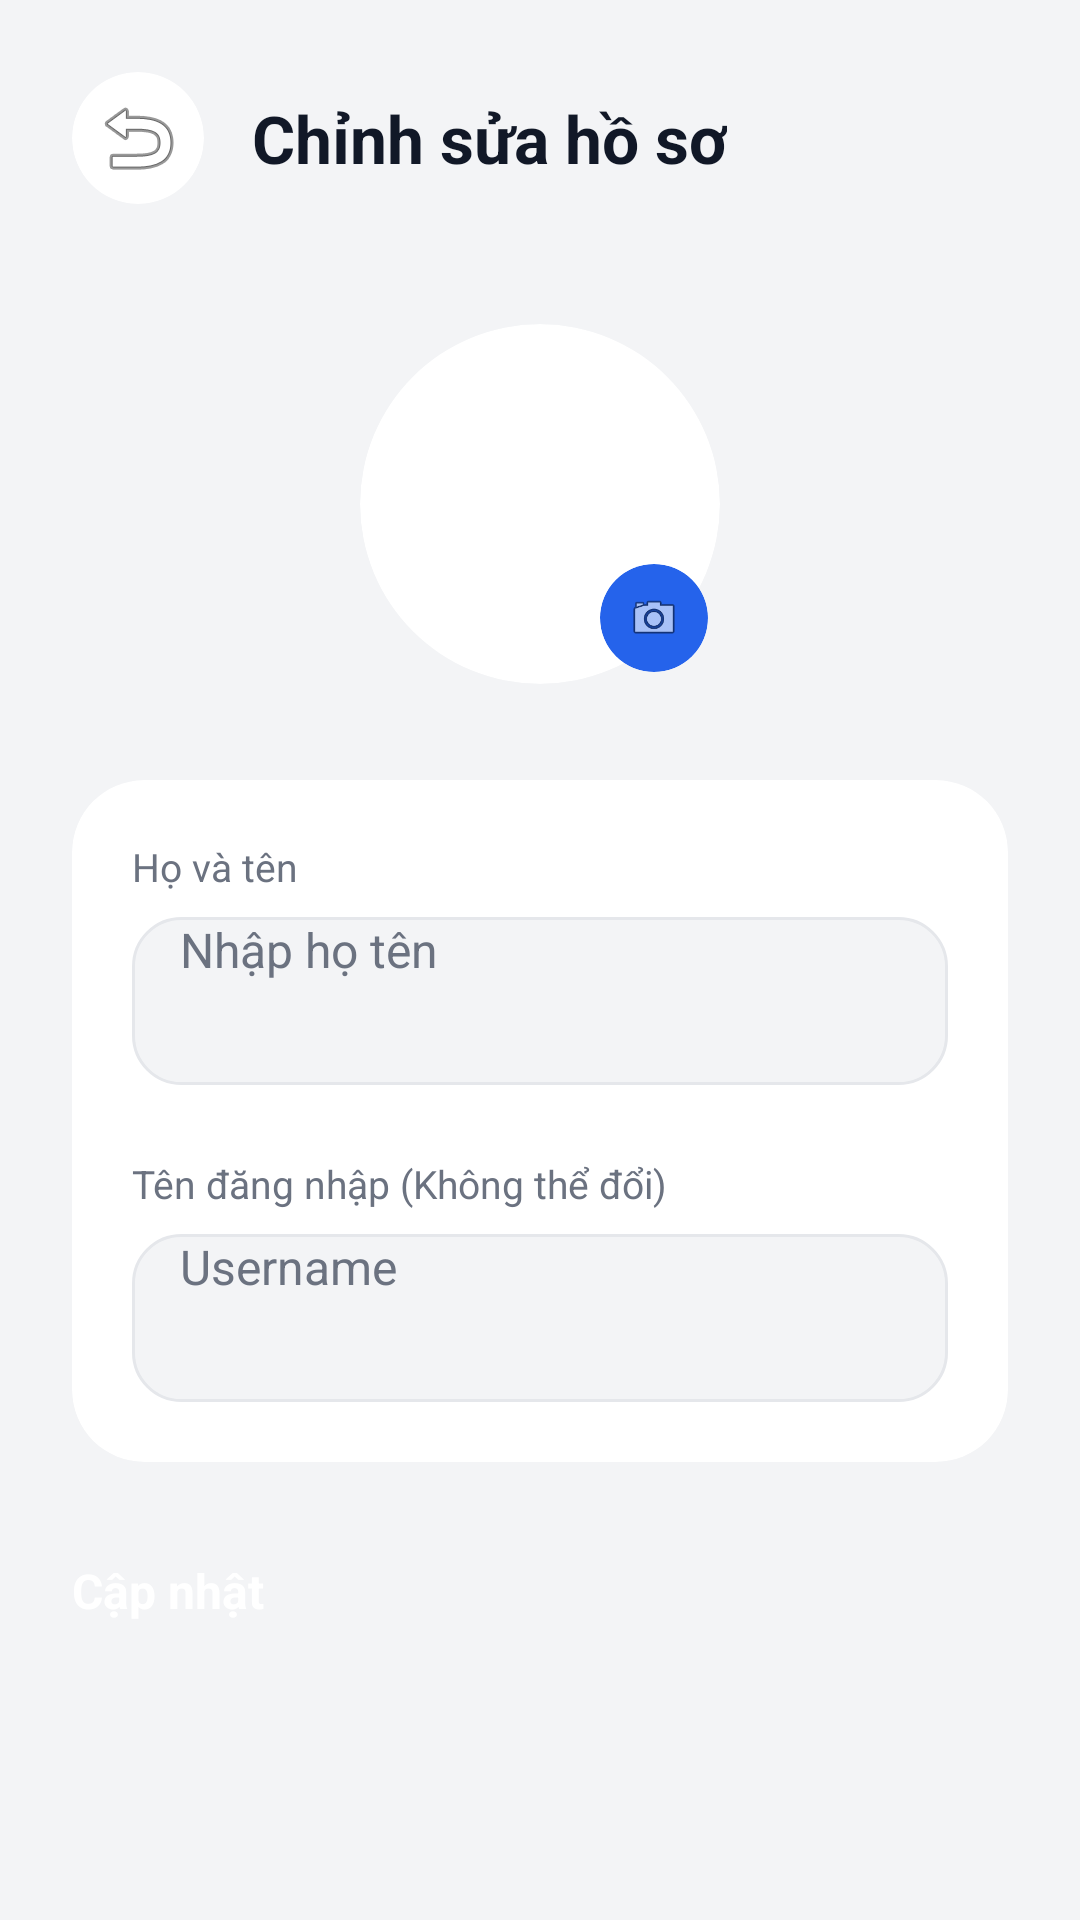

Where icons sit on this 1080*1920 app screen, as rect(x1, y1, x2, y2):
revert: rect(72, 72, 204, 204)
